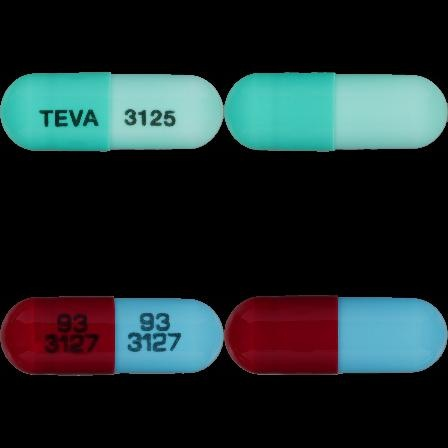0093-3125: (0, 0, 224, 224)
